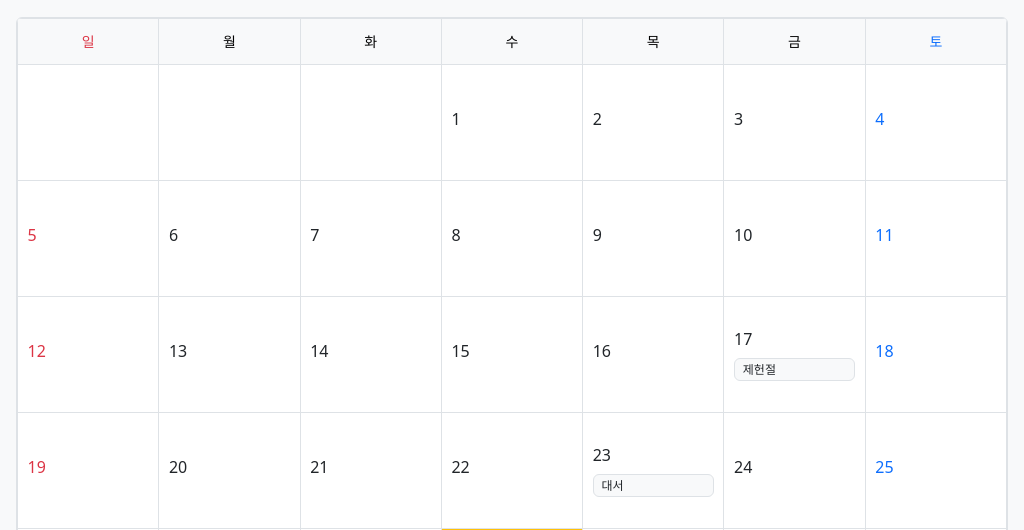
Test case: SpecialDaysView › 로그인하지 않은 사용자에게 검색 링크를 노출하지 않는다
Click the button with aria-label "2026-07-17, 제헌절": (795, 354) [724,297,865,412]
(page scrolled)
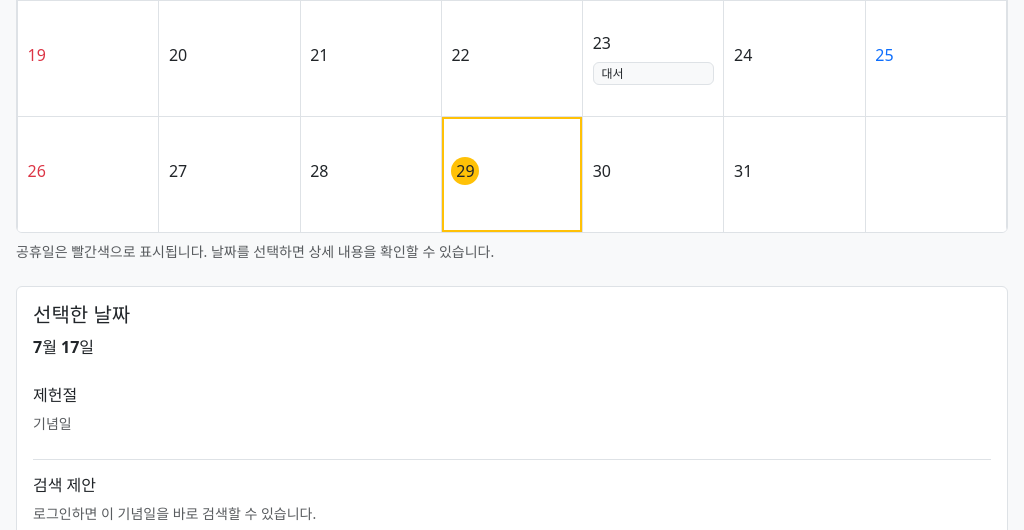
Check: the text "로그인하면 이 기념일을 바로 검색할 수 있습니다." is shown, box [33,504,316,523]
